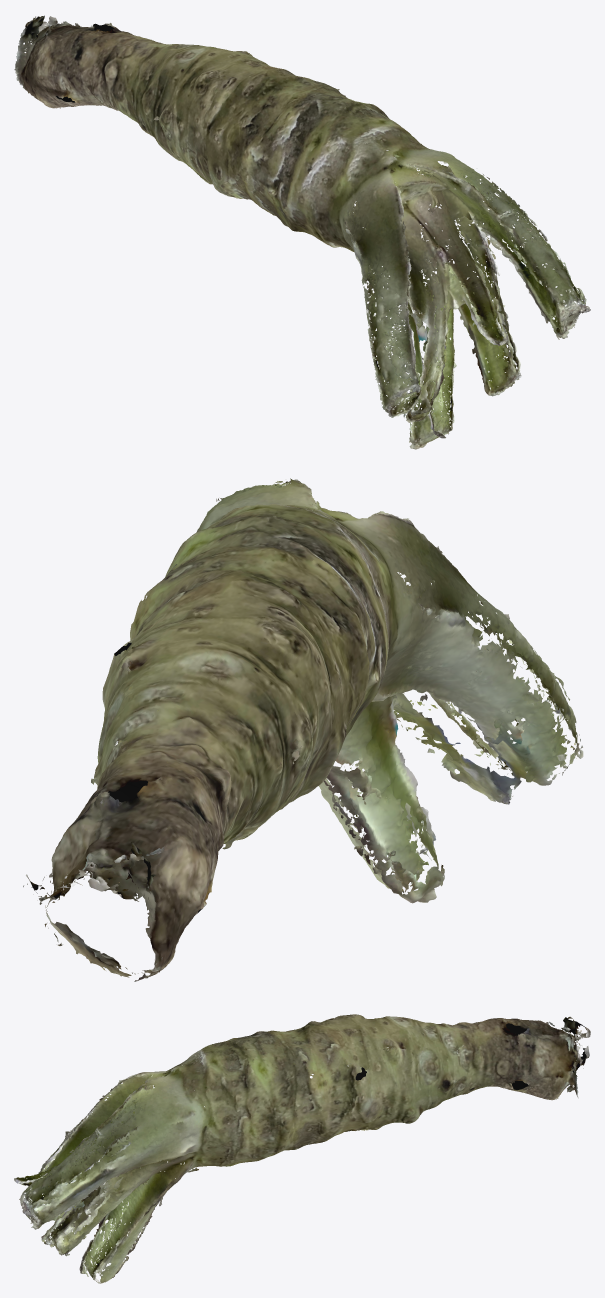
File: wasabi.glb
3 views of the same model, one above another, from view 1: azimuth 30°, elevation 25°; view 2: azimuth 150°, elevation 25°; view 3: azimuth 270°, elevation 25° (orthographic). The views are drawn at different scales.
Visible parts, largest first — view 1: Mesh_0; view 2: Mesh_0; view 3: Mesh_0.
Boxes of the visible parts, <box> form: Mesh_0: <box>14,15,590,449</box>; Mesh_0: <box>23,478,583,981</box>; Mesh_0: <box>14,1014,590,1283</box>.
Bounding box in the file's own units: 0.4825 × 0.5194 × 1.1.
Materials: 68 (68 with a texture image).
